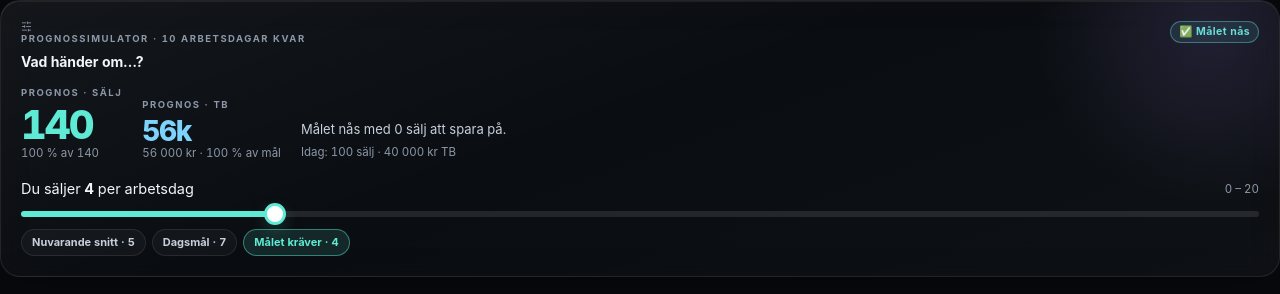
Test case: <PlannerCard/> › starts at the pace the goal requires and reacts to the slider and presets
Expected: the text "140" is shown, top-left (21, 100), bottom-right (92, 149)
Set the slider named "Sälj per arbetsdag framöver" to "1" at coordinates (90, 214), box top-left (21, 211), bottom-right (1259, 217)
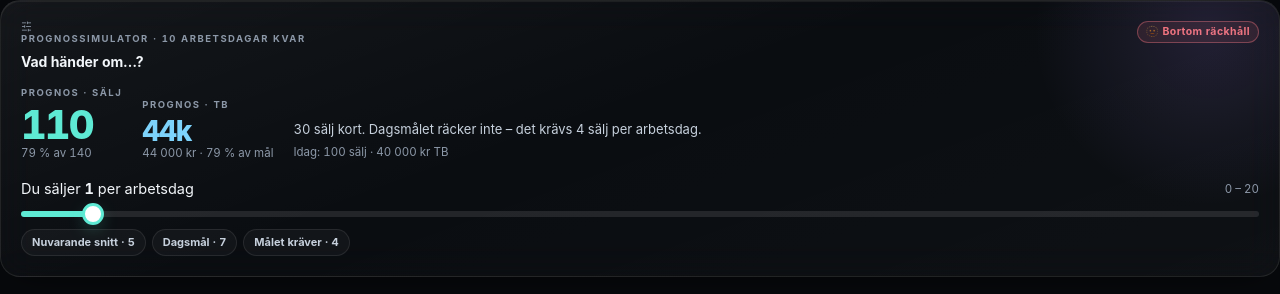
Now the text "110" is shown, box top-left (21, 100), bottom-right (92, 149)
Click the button "Dagsmål · 7" at coordinates (195, 242), box top-left (152, 229), bottom-right (237, 256)
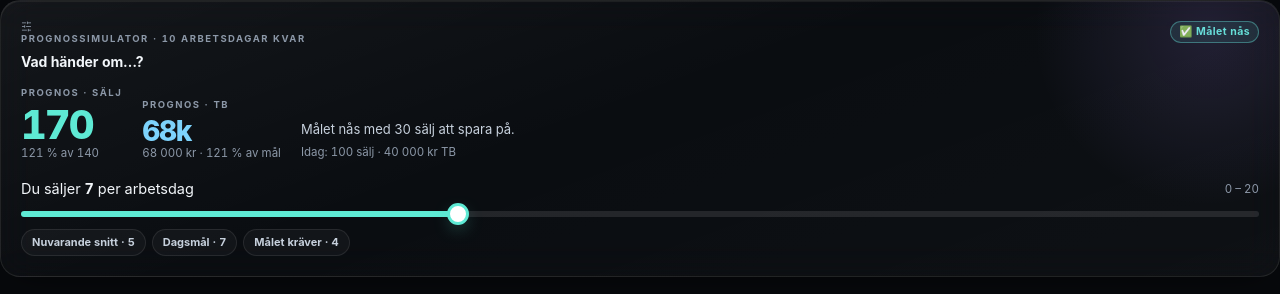
Now the slider named "Sälj per arbetsdag framöver" holds "7", box top-left (21, 211), bottom-right (1259, 217)
